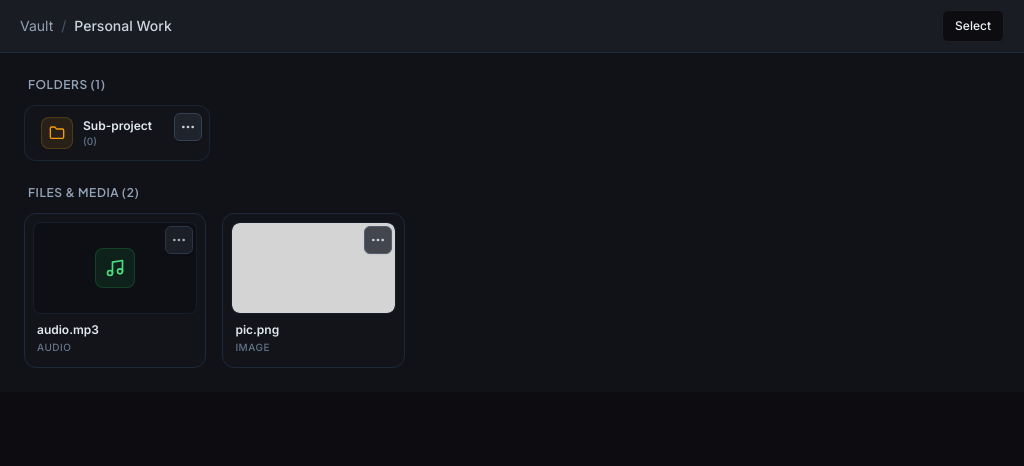
Scenario: Bulk Selection UI in FolderContentsView › should toggle a media card and suppress its overflow menu while in selection mode
Click the button "Select" at (973, 26), box x1=942 y1=10 x2=1004 y2=42
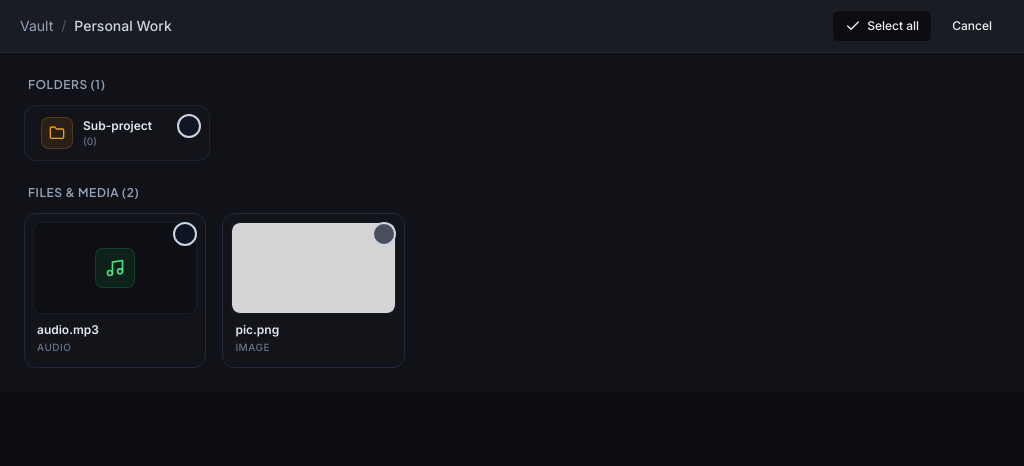
Click the button "audio.mp3 Audio" at (115, 291), box x1=24 y1=213 x2=206 y2=368
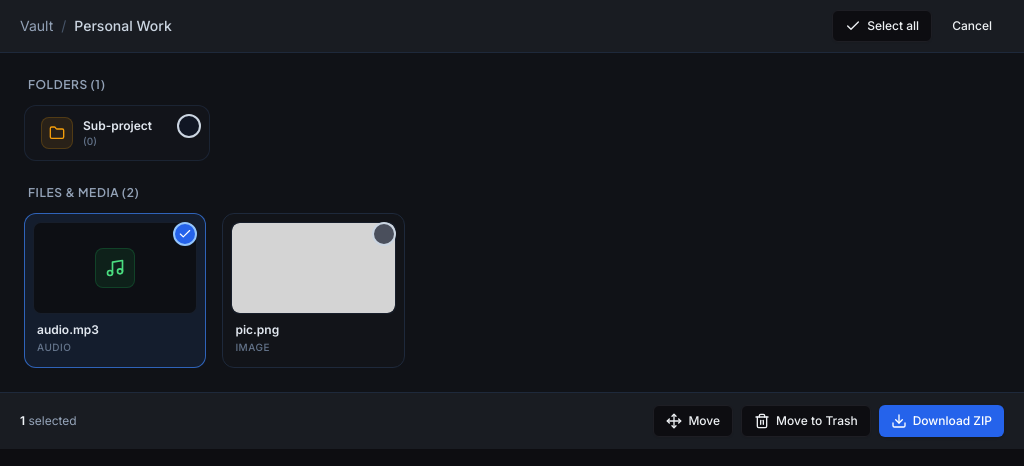
Result: the text "1 selected" is shown at x1=20 y1=414 x2=77 y2=430
